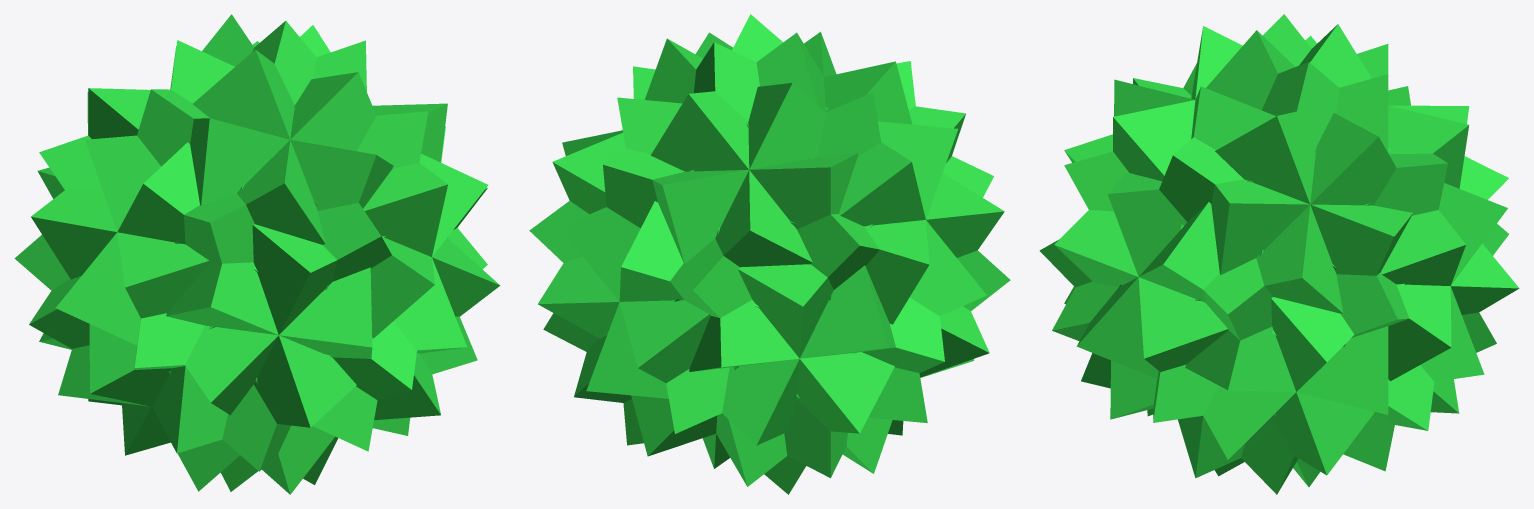
The model's file is great_inverted_pentagonal_hexecontahedron.obj.
3 renders of one model, left to right at view 1: azimuth 30°, elevation 25°; view 2: azimuth 150°, elevation 25°; view 3: azimuth 270°, elevation 25°, orthographic.
Visible parts, largest first — view 1: Shape_IndexedFaceSet; view 2: Shape_IndexedFaceSet; view 3: Shape_IndexedFaceSet.
Part boxes in pixels (x1,y1,x2,y2): Shape_IndexedFaceSet: (14, 14, 500, 494); Shape_IndexedFaceSet: (529, 14, 1010, 494); Shape_IndexedFaceSet: (1039, 14, 1519, 494).
Size of the model in its own units: 2.8 by 2.78 by 2.82.
